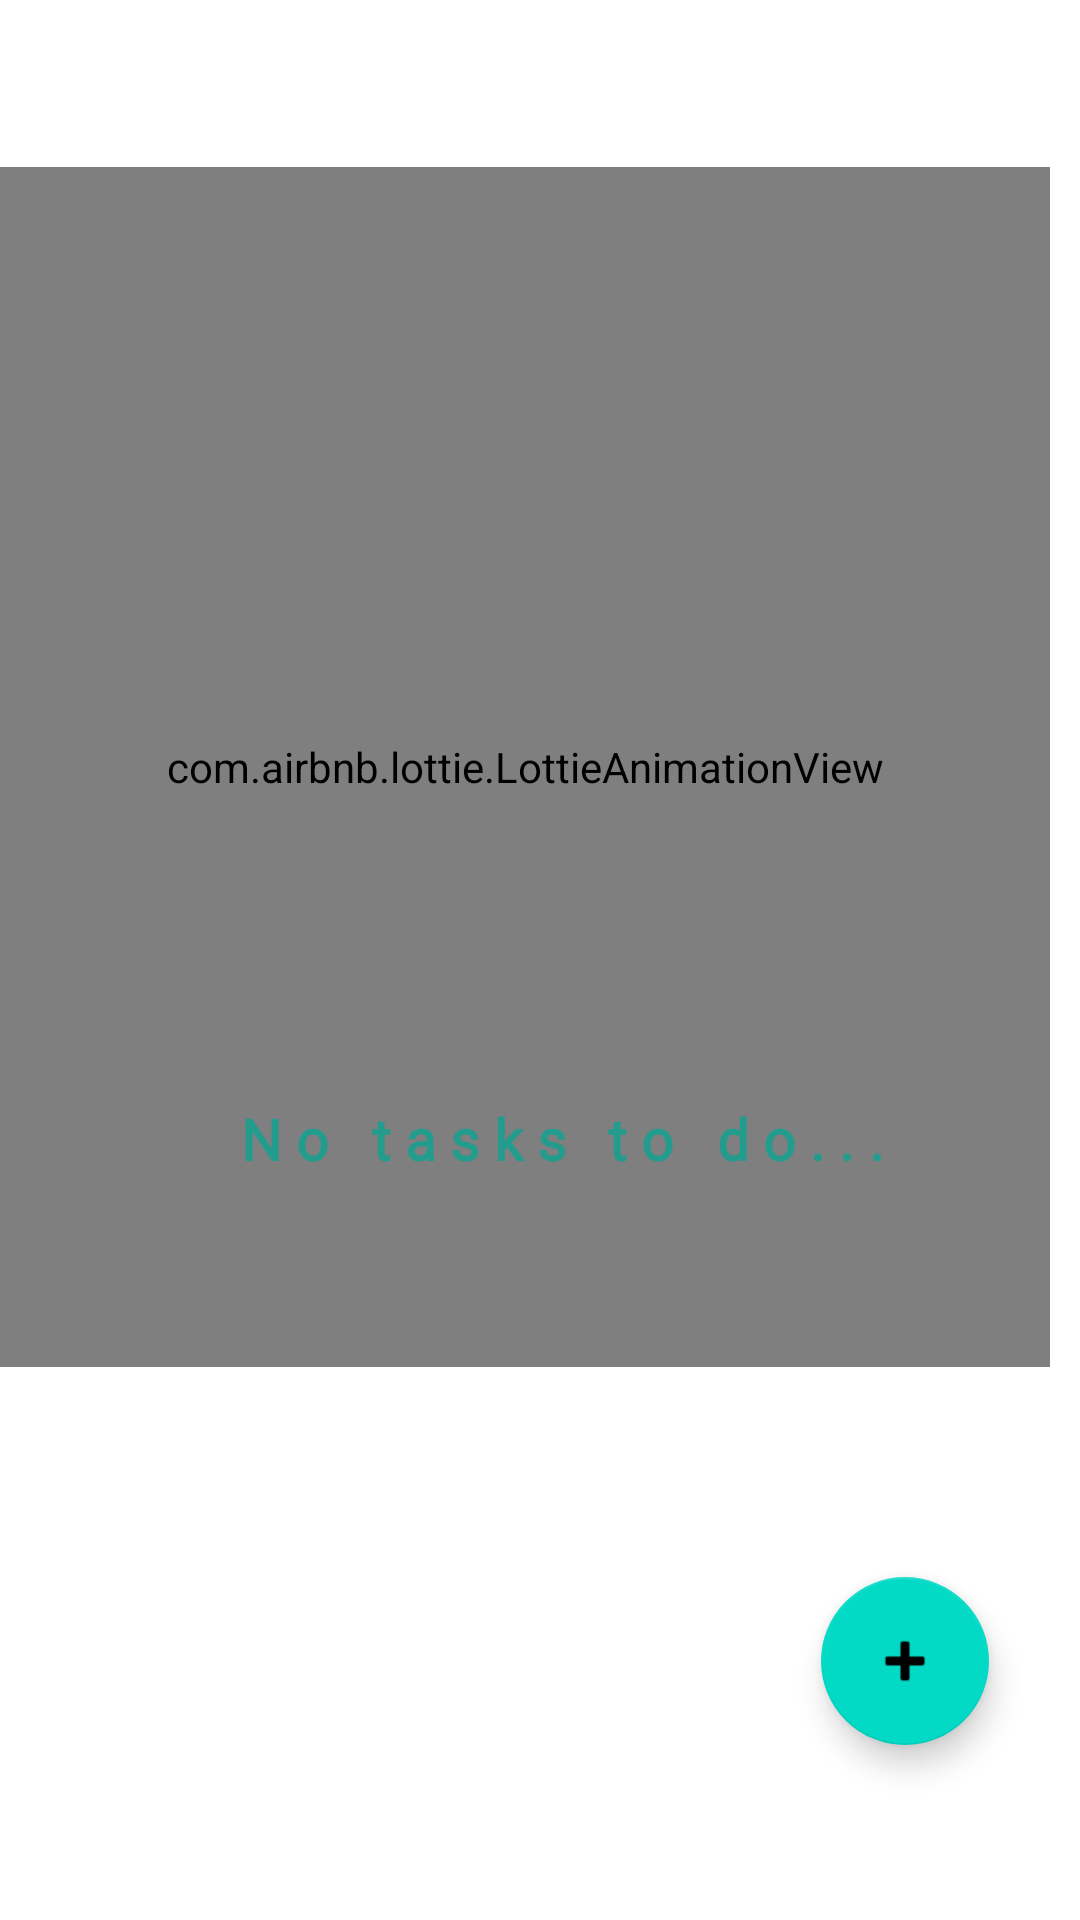

Icons on this 1080x1920 Android screen, each with the point to tap as (x,y):
add: (905,1661)
